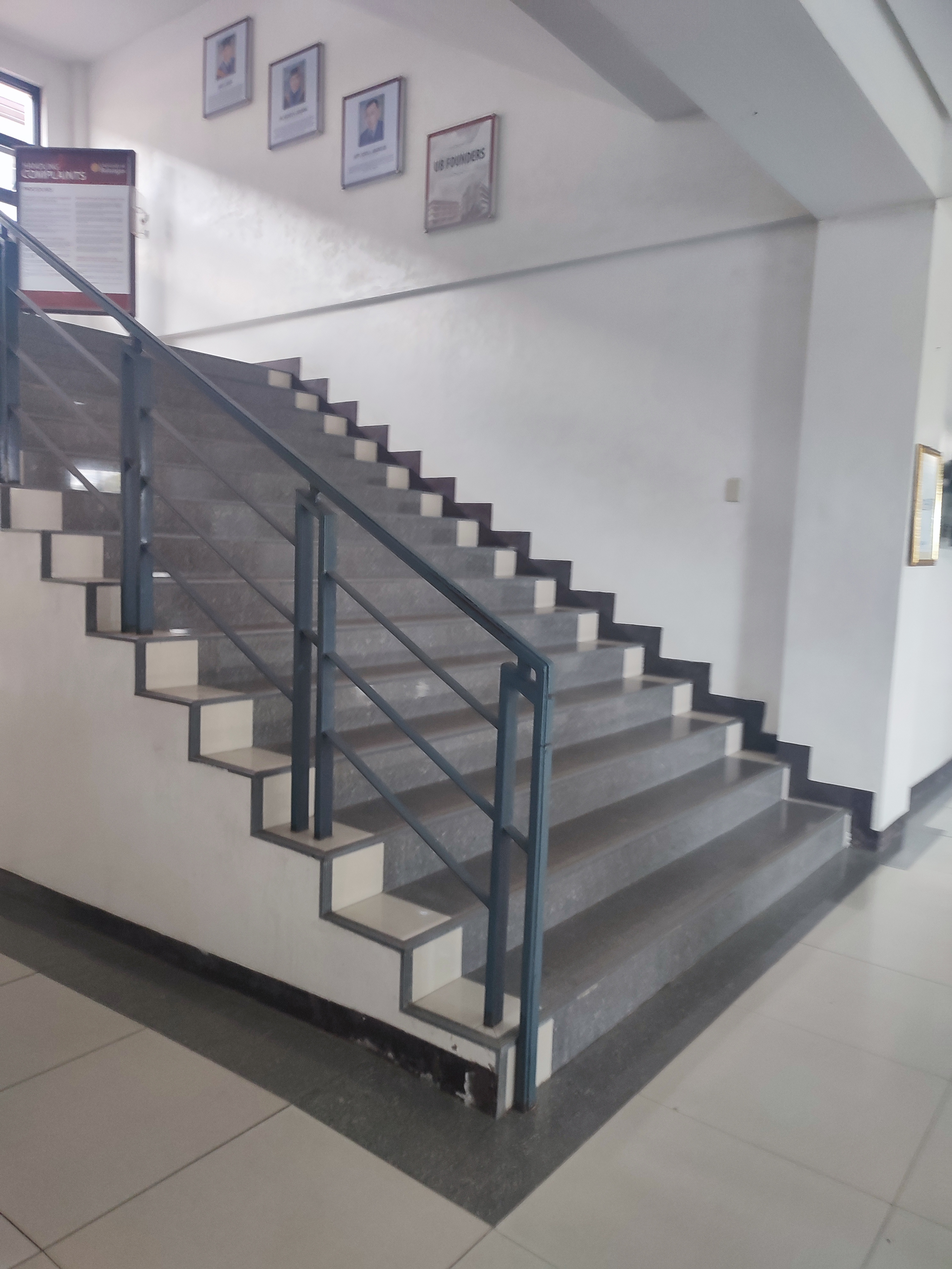Staircase: (0, 228, 850, 1114)
